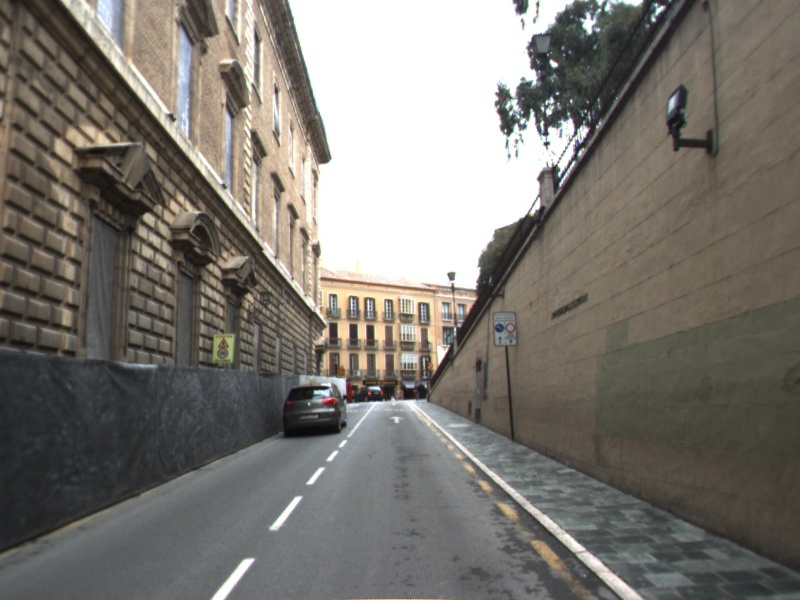STRAIGHT: (386, 414, 406, 425)
